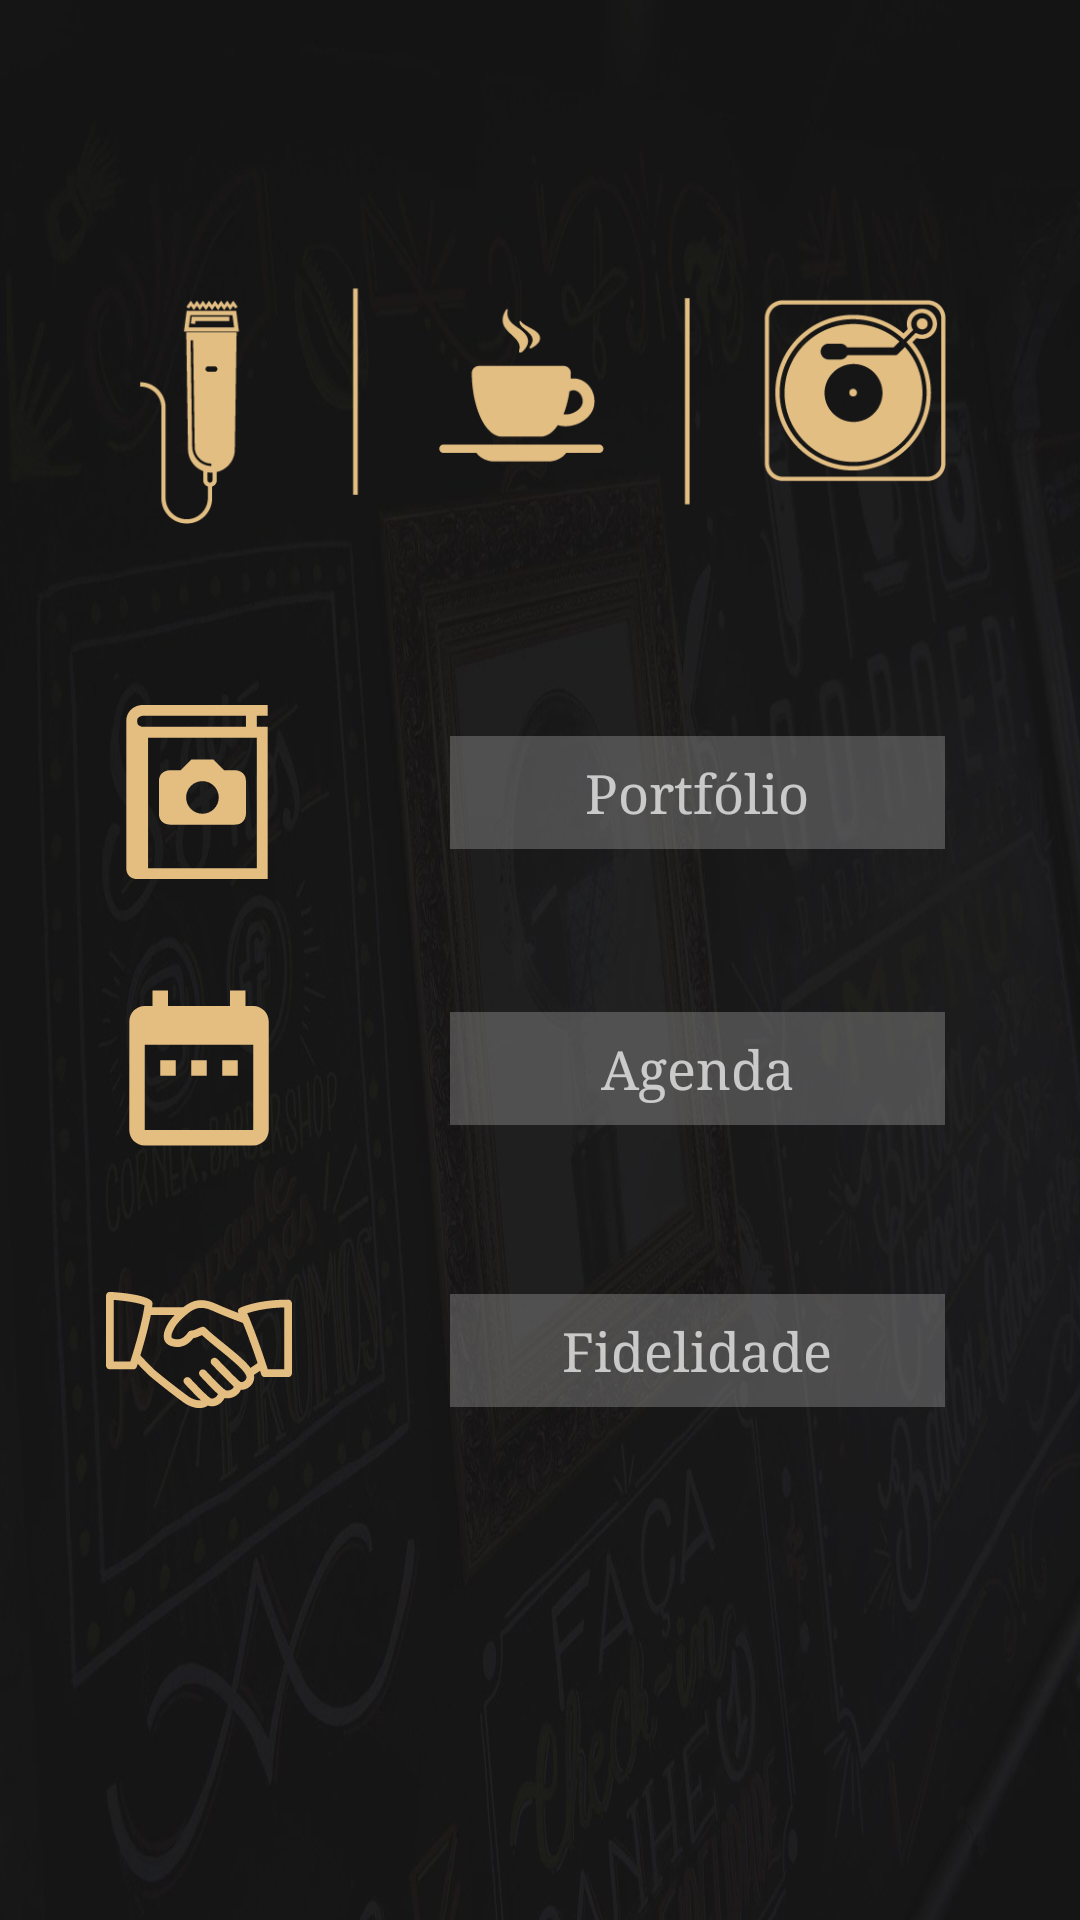

Icon click points for this 1080w x 1920h phone screenshot, format point (x, y):
Agenda: point (199, 1068)
Fidelidade: point (199, 1350)
Portfólio: point (197, 792)
